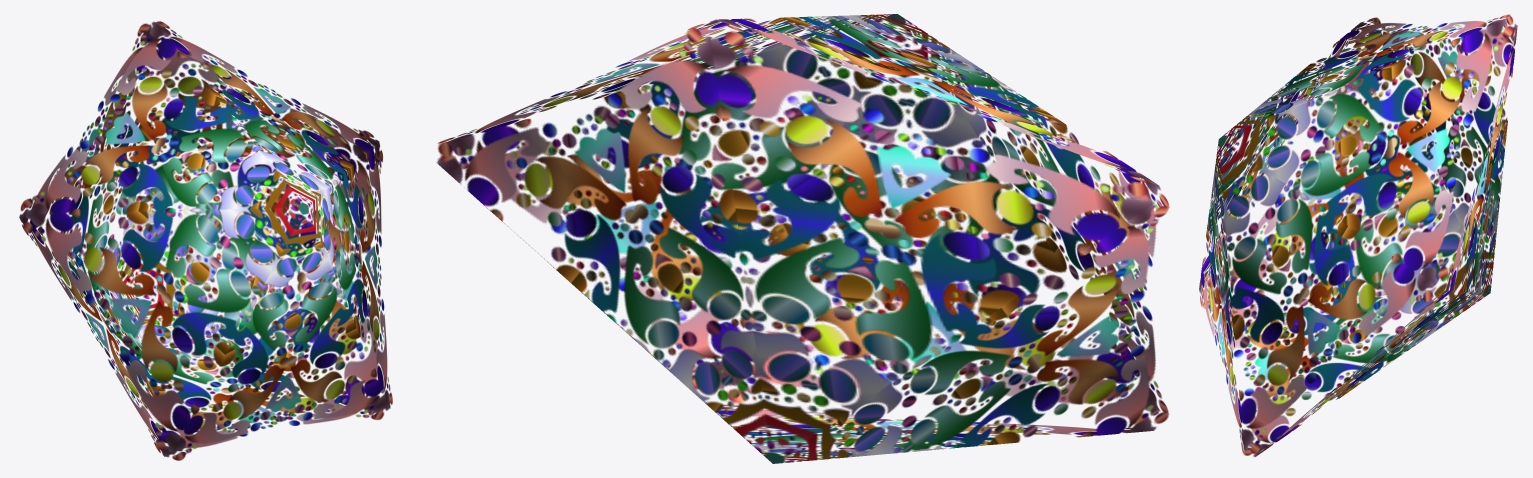
The model's file is PentagonalDipyramid.gltf.
The picture shows the model from 3 angles, left to right: view 1: azimuth 30°, elevation 25°; view 2: azimuth 150°, elevation 25°; view 3: azimuth 270°, elevation 25°; orthographic projection. The views are drawn at different scales.
Visible parts, largest first — view 1: PentagonalDipyramid; view 2: PentagonalDipyramid; view 3: PentagonalDipyramid.
Part boxes in pixels (x1,y1,x2,y2): PentagonalDipyramid: (19,21,392,460); PentagonalDipyramid: (436,14,1169,463); PentagonalDipyramid: (1199,14,1517,457).
Size of the model in its own units: 2.06 by 1.68 by 1.27.
